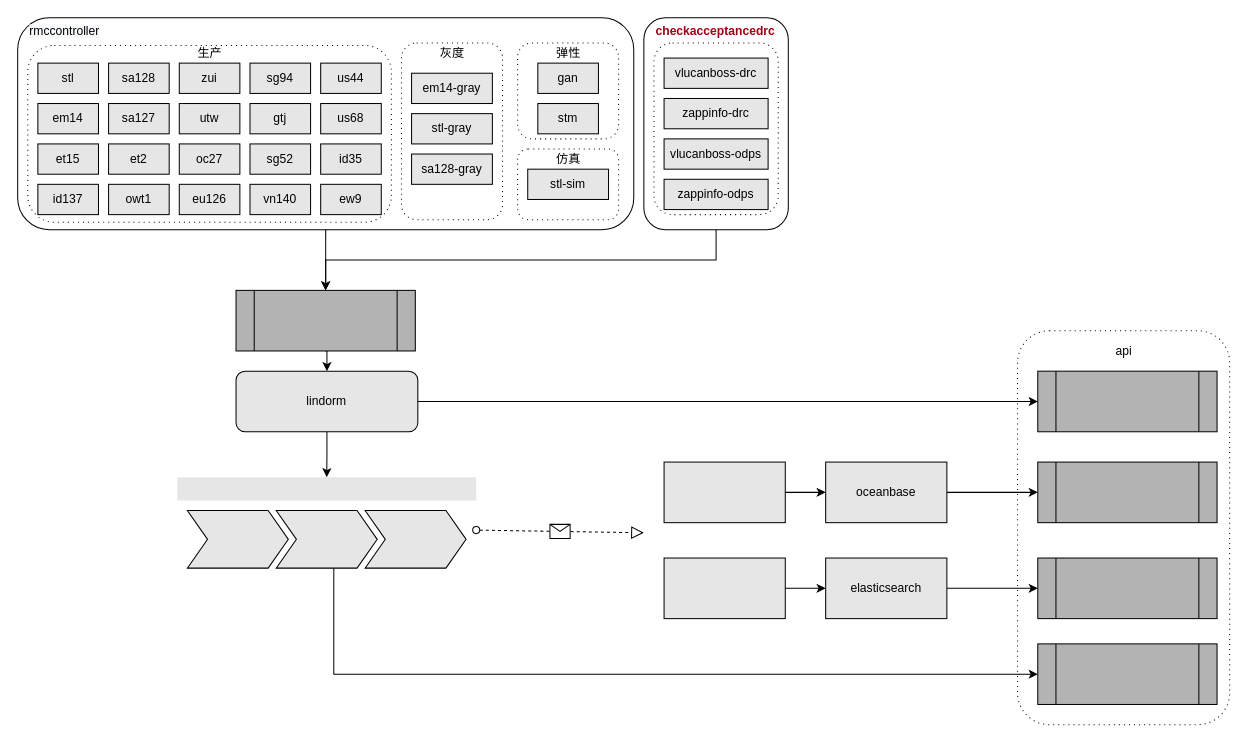
Image size: 1247x742. Some labels were removed from this diagram. The shapes that lost their labels are listed below. From the top down, each one's box as (x1, y1, x2, y2) in pixels, then its label:
(235, 289, 415, 351): listener
(1037, 370, 1217, 432): 全量同步比对
(663, 461, 785, 523): AntqConsumer
(1037, 461, 1217, 523): 高精度聚合计算
(177, 477, 476, 578): AntQ
(663, 557, 785, 619): blink
(1037, 557, 1217, 619): 全域聚合计算
(1037, 643, 1217, 704): 增量同步
